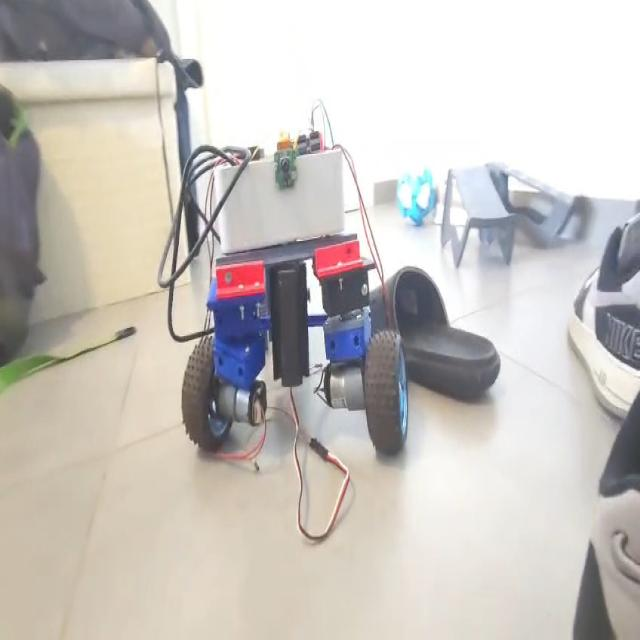Robot: (181, 90, 411, 465)
